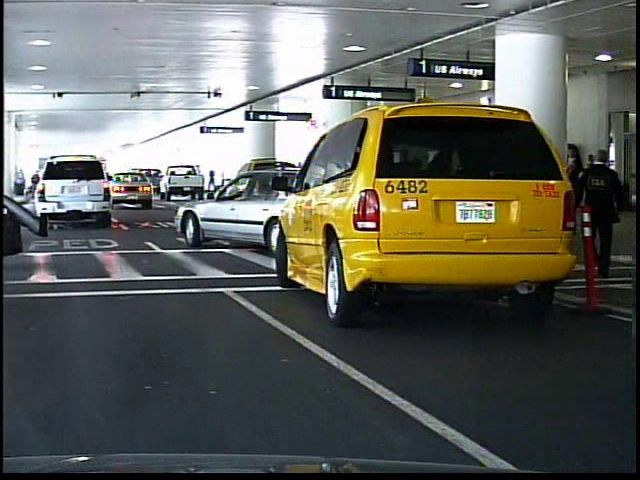person: (577, 149, 622, 284), (554, 139, 587, 262)
